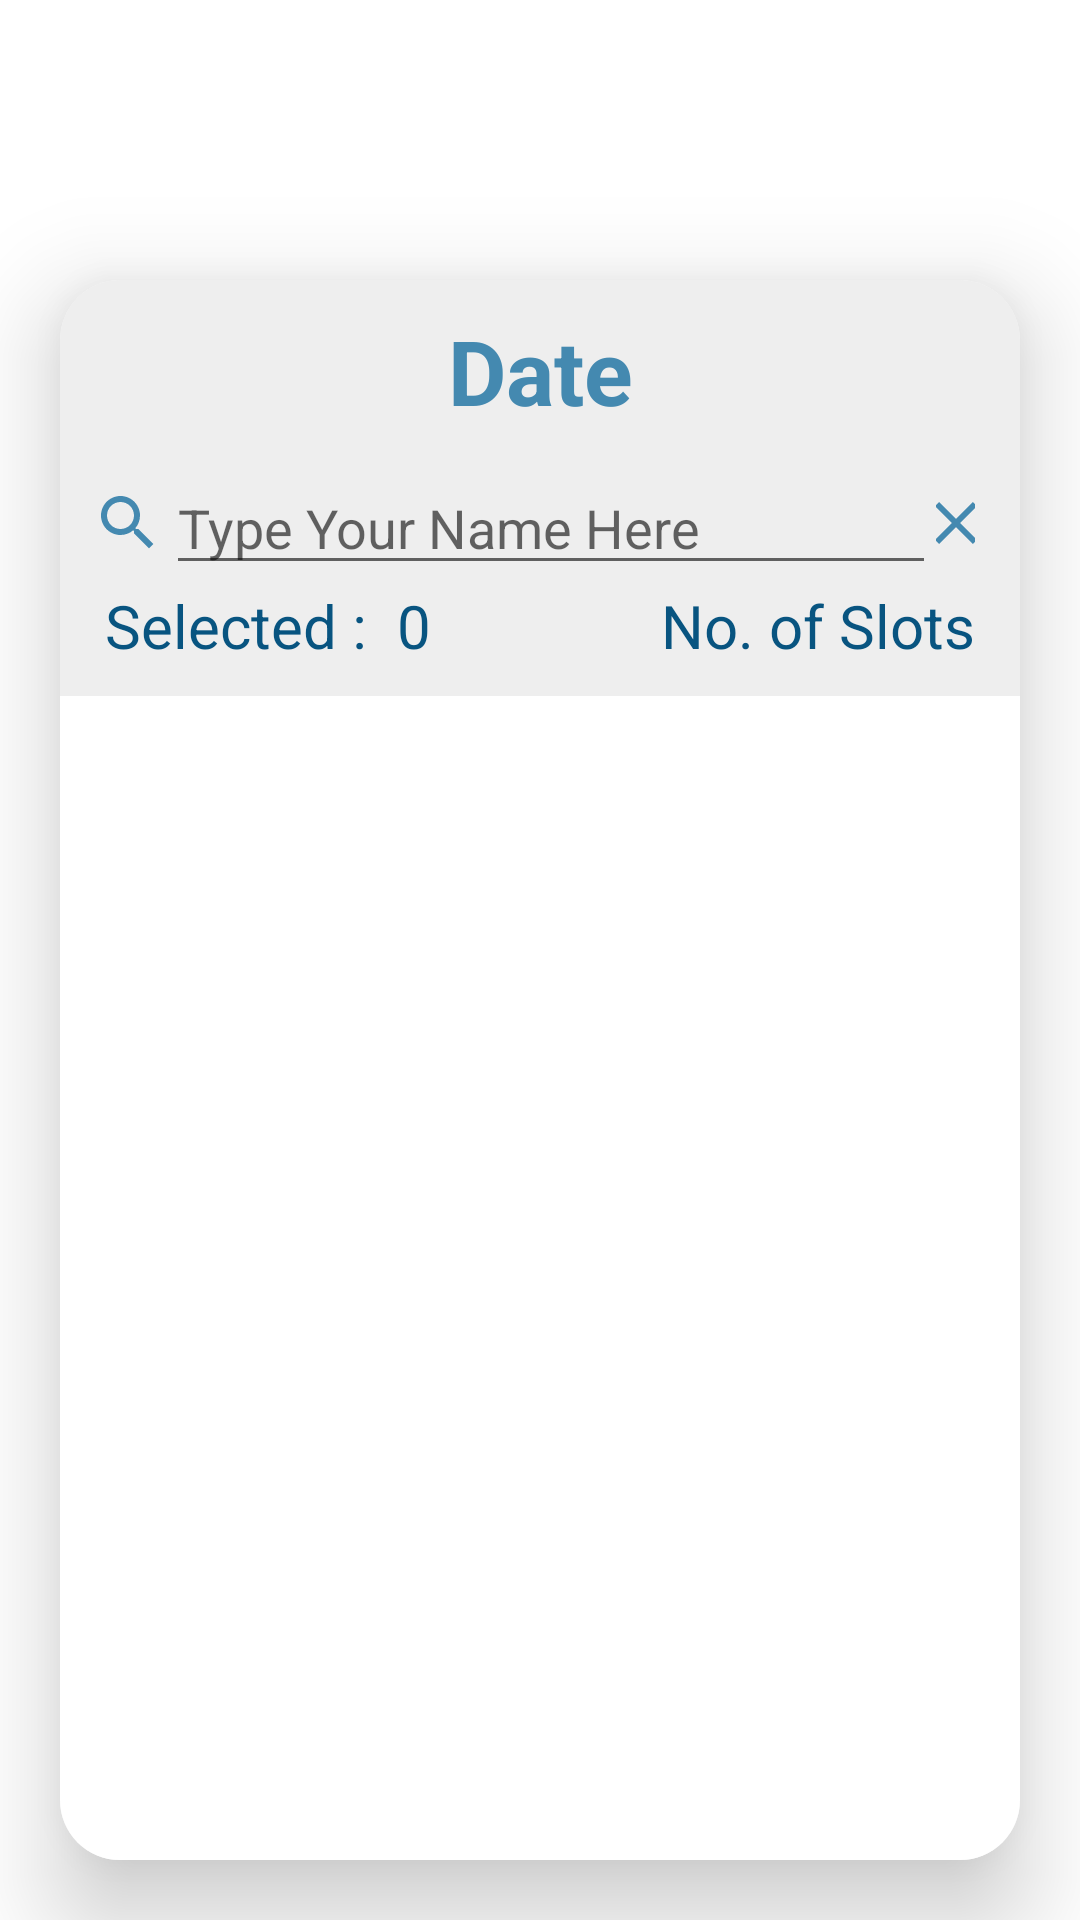

Screen size 1080x1920. Icon name, then its box in pixels as (x1, y1, x2, y2):
clear: (936, 502, 975, 544)
search: (101, 496, 153, 548)
